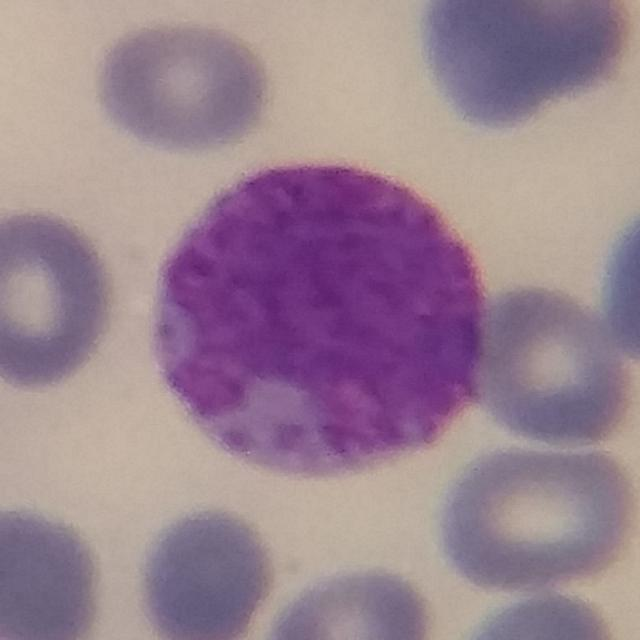Basophil: (128, 137, 499, 503)
RBC: (428, 434, 640, 596), (467, 278, 639, 452), (88, 12, 279, 158), (0, 201, 122, 393), (407, 0, 568, 137), (130, 500, 283, 640), (0, 498, 111, 640), (256, 558, 443, 640), (453, 585, 628, 640), (593, 188, 640, 377)
